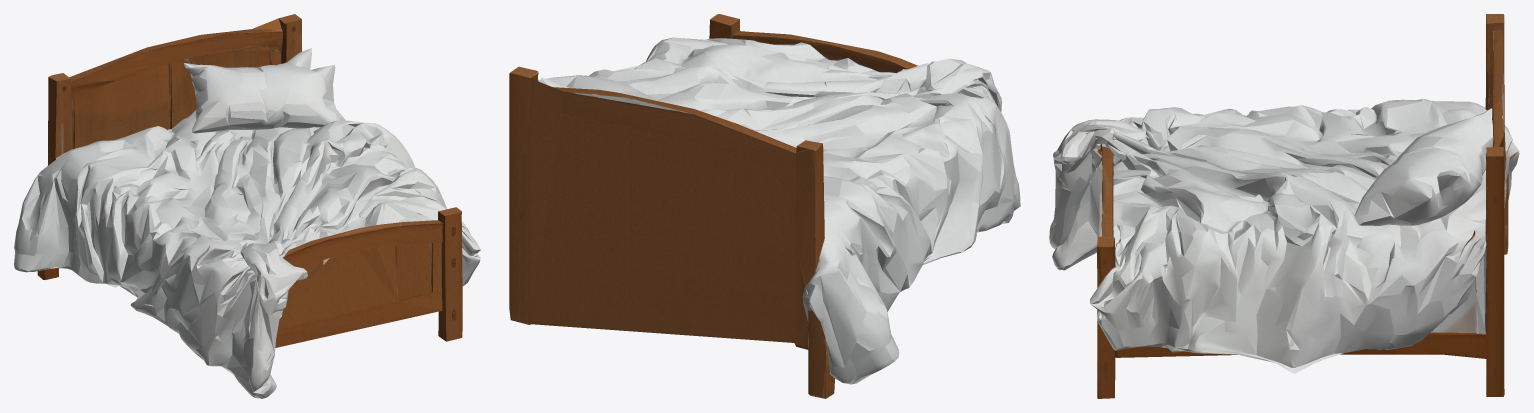
File: Old_double_bed.glb
3 views of the same model, side by side, from view 1: azimuth 30°, elevation 25°; view 2: azimuth 150°, elevation 25°; view 3: azimuth 270°, elevation 25° (orthographic). The views are drawn at different scales.
Bounding box in the file's own units: 1.9 × 1.08 × 1.86.
Materials: 1 (1 with a texture image).
